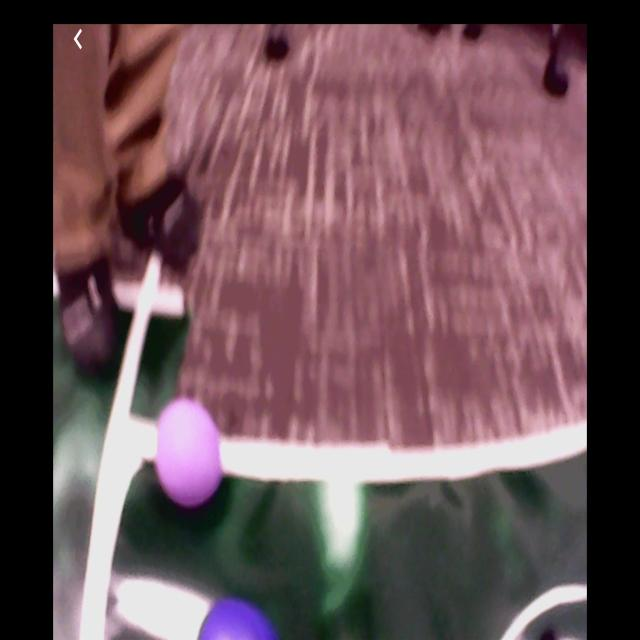ball: (157, 400, 222, 505), (198, 599, 278, 640)
